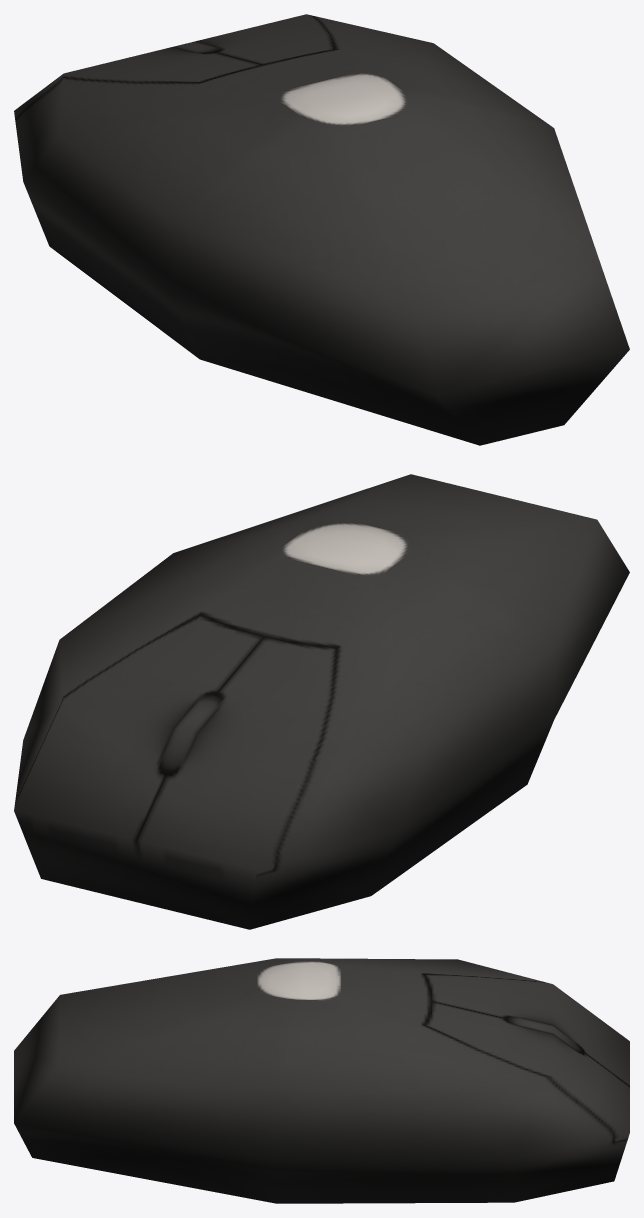
File: maus.fbx
The picture shows the model from 3 angles, top to bottom: view 1: azimuth 30°, elevation 25°; view 2: azimuth 150°, elevation 25°; view 3: azimuth 270°, elevation 25°; orthographic projection. The views are drawn at different scales.
Visible parts, largest first — view 1: Mesh; view 2: Mesh; view 3: Mesh.
Part boxes in pixels (x1,y1,x2,y2): Mesh: (14,14,629,445); Mesh: (14,474,629,929); Mesh: (14,958,629,1203).
Size of the model in its own units: 6.05 by 3.16 by 10.96.
